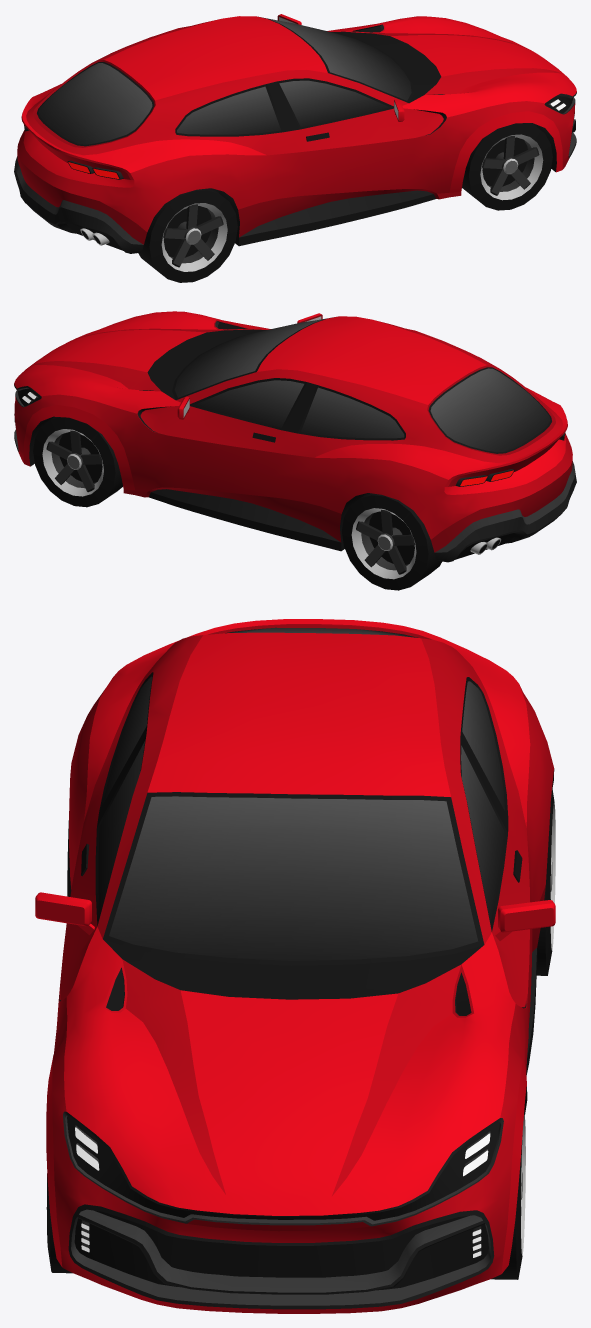
The model's file is Car_087.glb.
The picture shows the model from 3 angles, top to bottom: view 1: azimuth 30°, elevation 25°; view 2: azimuth 150°, elevation 25°; view 3: azimuth 270°, elevation 25°; orthographic projection. The views are drawn at different scales.
Parts seen in each view (by area): view 1: Car_087, wheel_3_Car_087_Wheel_3R, wheel_1_Car_087_Wheel_2R; view 2: Car_087, wheel_2_Car_087_Wheel_3L, wheel_0_Car_087_Wheel_1L; view 3: Car_087, wheel_2_Car_087_Wheel_3L, wheel_0_Car_087_Wheel_1L.
Boxes of the visible parts, x1=… form: Car_087: x1=14, y1=14, x2=576, y2=253; wheel_3_Car_087_Wheel_3R: x1=138, y1=188, x2=237, y2=282; wheel_1_Car_087_Wheel_2R: x1=462, y1=123, x2=552, y2=210; Car_087: x1=14, y1=311, x2=576, y2=562; wheel_2_Car_087_Wheel_3L: x1=342, y1=493, x2=441, y2=590; wheel_0_Car_087_Wheel_1L: x1=33, y1=417, x2=122, y2=507; Car_087: x1=35, y1=619, x2=555, y2=1313; wheel_2_Car_087_Wheel_3L: x1=536, y1=788, x2=555, y2=975; wheel_0_Car_087_Wheel_1L: x1=491, y1=1112, x2=525, y2=1279.
Size of the model in its own units: 5.01 by 1.59 by 2.2.
Materials: 2 (2 with a texture image).
